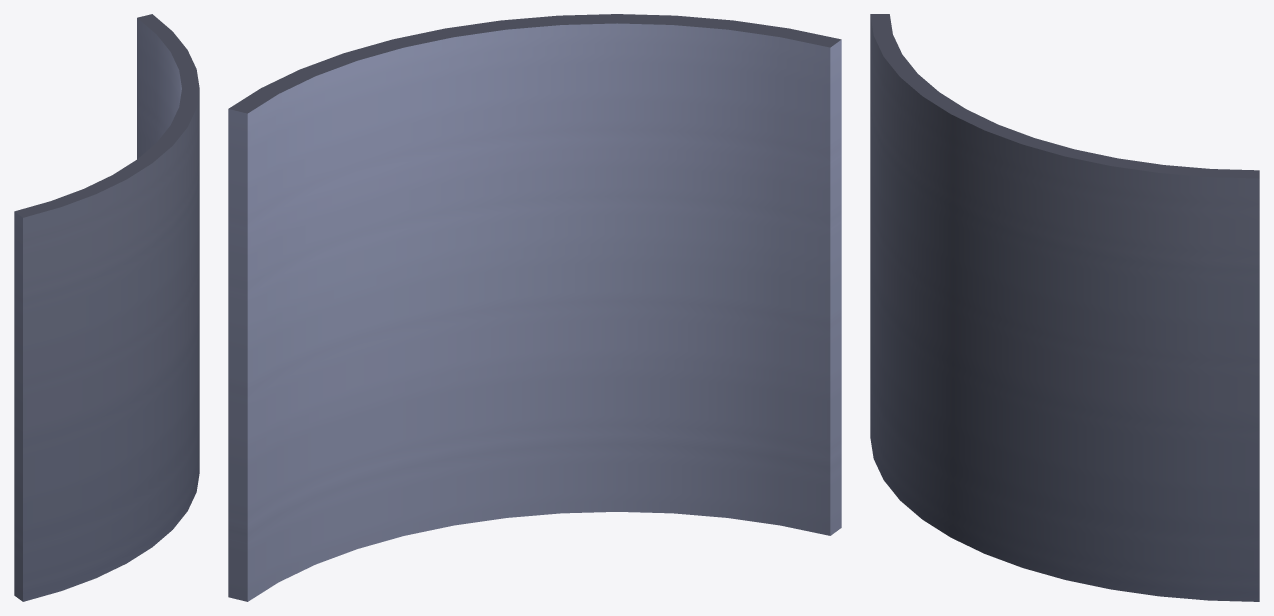
Rendered from building_wall_corner_round.glb.
3 views of the same model, side by side, from view 1: azimuth 30°, elevation 25°; view 2: azimuth 150°, elevation 25°; view 3: azimuth 270°, elevation 25° (orthographic). The views are drawn at different scales.
Visible parts, largest first — view 1: wall-corner-round; view 2: wall-corner-round; view 3: wall-corner-round.
Part boxes in pixels (left/top/right/bottom): wall-corner-round: left=14, top=14, right=199, bottom=601; wall-corner-round: left=228, top=14, right=841, bottom=601; wall-corner-round: left=870, top=14, right=1259, bottom=601.
Size of the model in its own units: 2 by 2.4 by 2.
Materials: 1 (1 with a texture image).
